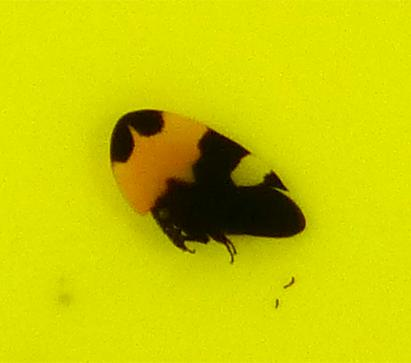Hemiptera: (100, 100, 311, 263)
